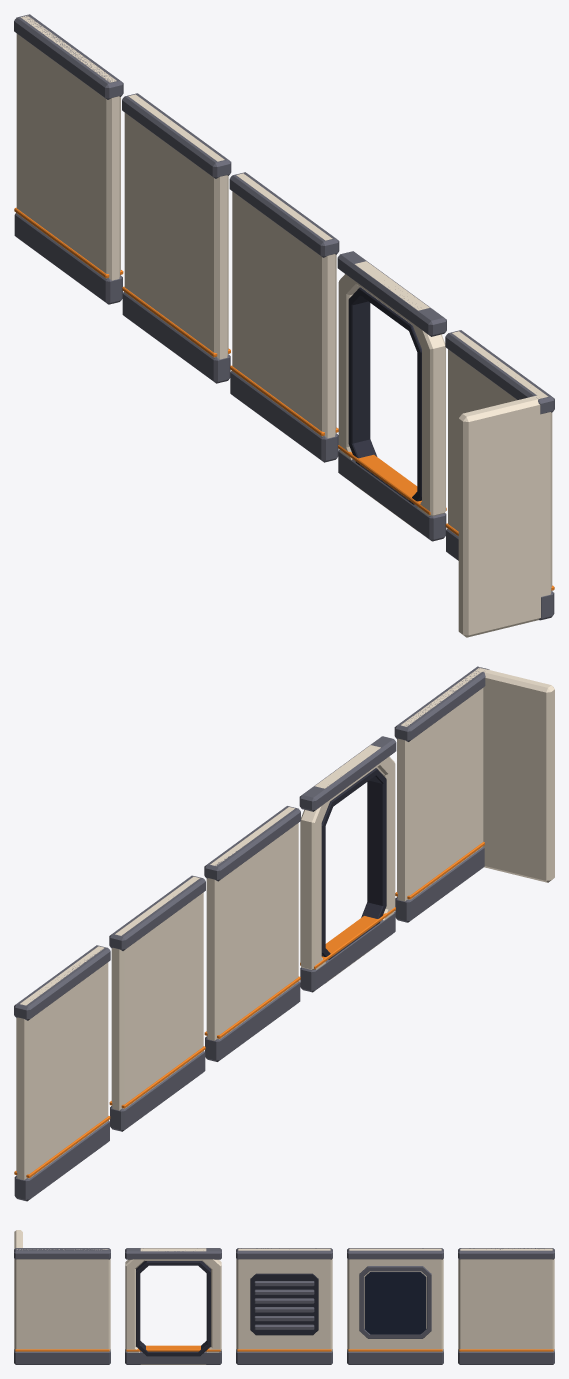
File: int-wall-panel.glb
The picture shows the model from 3 angles, top to bottom: view 1: azimuth 30°, elevation 25°; view 2: azimuth 150°, elevation 25°; view 3: azimuth 270°, elevation 25°; orthographic projection. The views are drawn at different scales.
Parts seen in each view (by area): view 1: Ivory wall (×3), variant_corner_smooth-structure, Ivory open doorway, variant_flat_smooth-structure_structure-gray, Dark door liner, variant_vent_smooth-structure_structure-gray, variant_window_smooth-structure_structure-gray, variant_door_smooth-structure_structure-gray, variant_corner_smooth-structure_structure-gray, Orange floor seam; view 2: Ivory wall (×3), variant_corner_smooth-structure, Ivory open doorway, Dark door liner, variant_flat_smooth-structure_structure-gray, variant_vent_smooth-structure_structure-gray, variant_window_smooth-structure_structure-gray, variant_corner_smooth-structure_structure-gray, variant_door_smooth-structure_structure-gray, Orange floor seam; view 3: Ivory wall (×3), variant_corner_smooth-structure, variant_vent_smooth-structure_structure-gray, Dark window glazing, variant_window_smooth-structure_structure-gray, Ivory open doorway, Dark vent recess, variant_corner_smooth-structure_structure-gray, variant_flat_smooth-structure_structure-gray, variant_door_smooth-structure_structure-gray, Dark door liner, Orange floor seam (×5).
Part boxes in pixels (<box>): Ivory wall (×3): <box>16,15,336,438</box>; variant_corner_smooth-structure: <box>448,331,552,637</box>; Ivory open doorway: <box>338,261,445,530</box>; variant_flat_smooth-structure_structure-gray: <box>14,14,123,304</box>; Dark door liner: <box>348,287,421,504</box>; variant_vent_smooth-structure_structure-gray: <box>229,172,339,462</box>; variant_window_smooth-structure_structure-gray: <box>122,93,231,383</box>; variant_door_smooth-structure_structure-gray: <box>337,251,446,541</box>; variant_corner_smooth-structure_structure-gray: <box>445,330,554,620</box>; Orange floor seam: <box>338,445,446,514</box>; Ivory wall (×3): <box>16,807,298,1179</box>; variant_corner_smooth-structure: <box>397,667,554,901</box>; Ivory open doorway: <box>300,745,395,983</box>; Dark door liner: <box>321,768,386,959</box>; variant_flat_smooth-structure_structure-gray: <box>14,945,110,1201</box>; variant_vent_smooth-structure_structure-gray: <box>204,806,300,1061</box>; variant_window_smooth-structure_structure-gray: <box>109,875,205,1131</box>; variant_corner_smooth-structure_structure-gray: <box>394,666,489,922</box>; variant_door_smooth-structure_structure-gray: <box>299,736,396,992</box>; Orange floor seam: <box>300,907,395,969</box>; Ivory wall (×3): <box>236,1248,554,1351</box>; variant_corner_smooth-structure: <box>14,1230,110,1351</box>; variant_vent_smooth-structure_structure-gray: <box>236,1248,332,1364</box>; Dark window glazing: <box>364,1271,426,1334</box>; variant_window_smooth-structure_structure-gray: <box>347,1248,443,1364</box>; Ivory open doorway: <box>125,1248,221,1364</box>; Dark vent recess: <box>250,1273,318,1335</box>; variant_corner_smooth-structure_structure-gray: <box>14,1248,110,1364</box>; variant_flat_smooth-structure_structure-gray: <box>458,1248,554,1364</box>; variant_door_smooth-structure_structure-gray: <box>125,1248,221,1364</box>; Dark door liner: <box>136,1261,210,1356</box>; Orange floor seam (×5): <box>15,1345,553,1351</box>.
Size of the model in its own units: 1.21 by 2.6 by 11.21.
